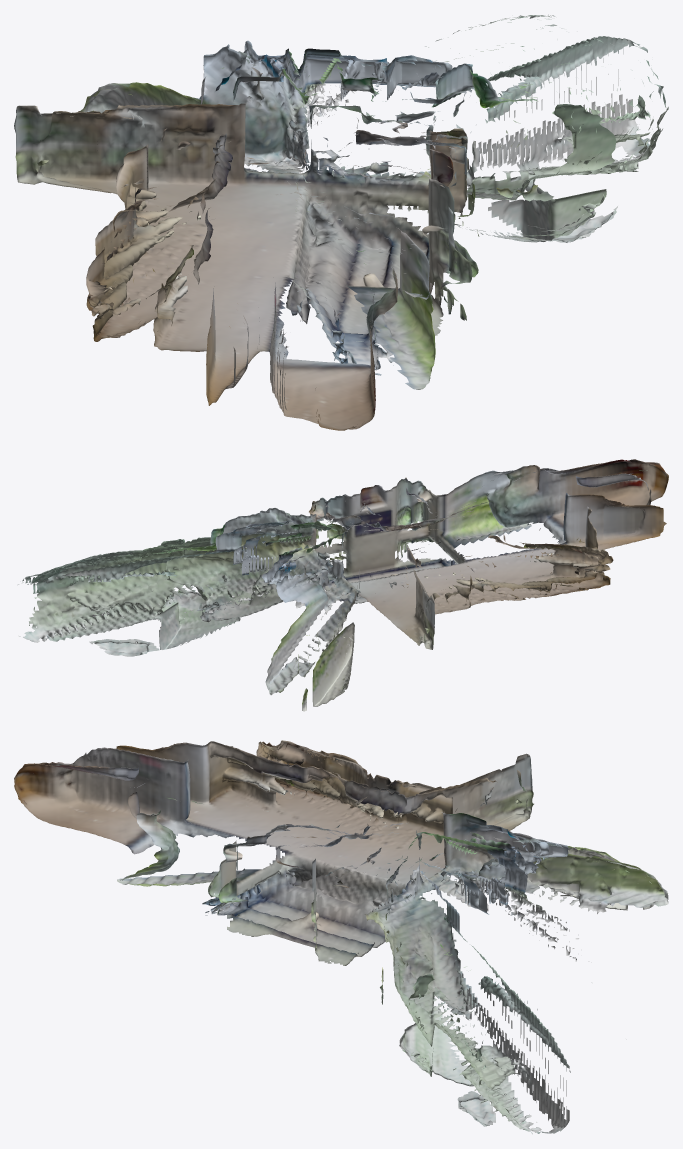
File: collider_mesh_url.glb
3 renders of one model, top to bottom at view 1: azimuth 30°, elevation 25°; view 2: azimuth 150°, elevation 25°; view 3: azimuth 270°, elevation 25°, orthographic. The views are drawn at different scales.
Parts seen in each view (by area): view 1: world; view 2: world; view 3: world.
Part boxes in pixels (x1,y1,x2,y2): world: (14, 14, 668, 430); world: (18, 459, 668, 711); world: (14, 740, 668, 1134).
Bounding box in the file's own units: 21.37 × 6.53 × 21.75.
